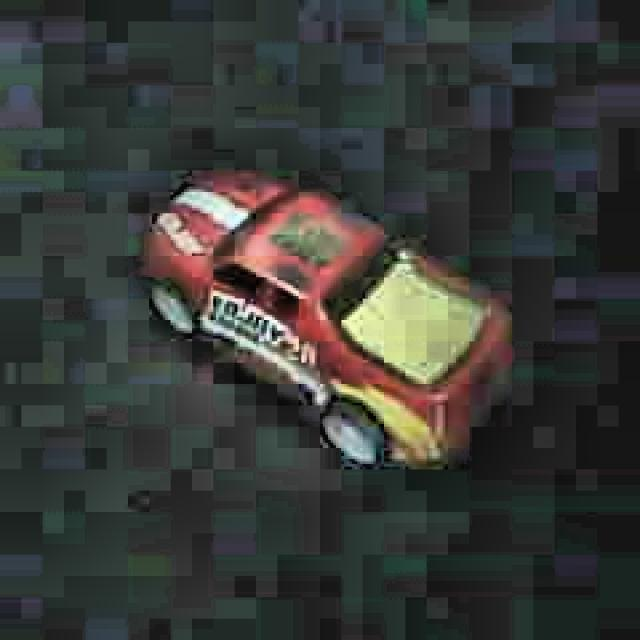car: (138, 161, 520, 482)
